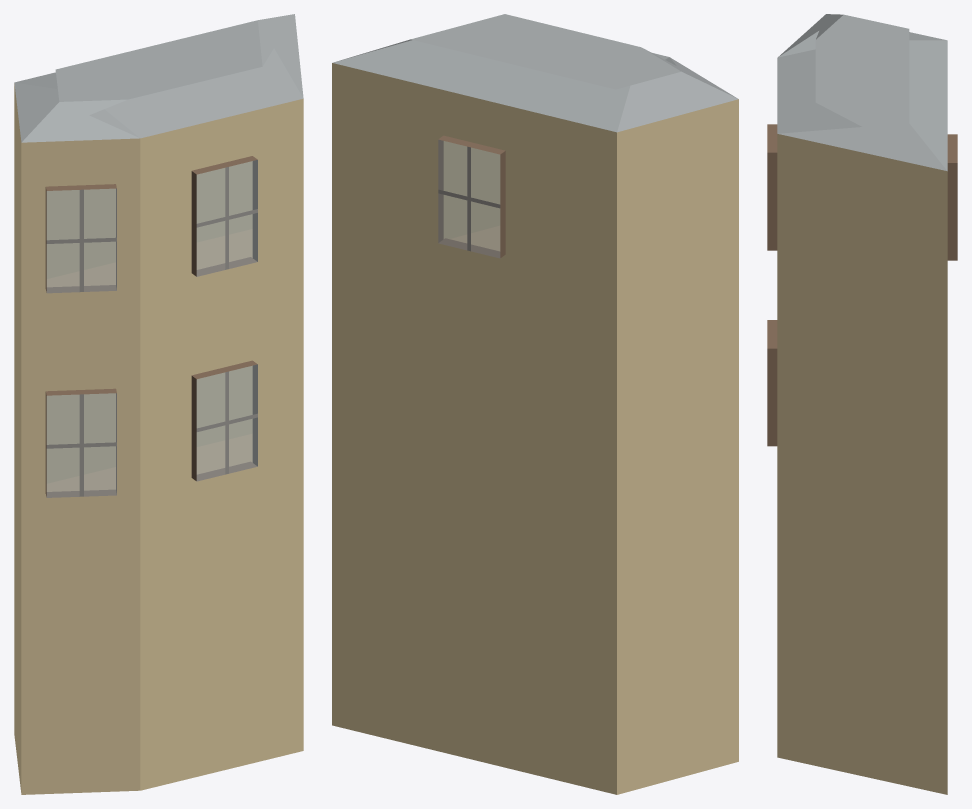
File: N-40-42.rear_three_storey.glb
3 renders of one model, left to right at view 1: azimuth 30°, elevation 25°; view 2: azimuth 150°, elevation 25°; view 3: azimuth 270°, elevation 25°, orthographic. The views are drawn at different scales.
Parts seen in each view (by area): view 1: N-40-42.rear_three_storey; view 2: N-40-42.rear_three_storey; view 3: N-40-42.rear_three_storey.
Boxes of the visible parts, x1=… form: N-40-42.rear_three_storey: x1=14, y1=14, x2=303, y2=794; N-40-42.rear_three_storey: x1=332, y1=14, x2=738, y2=794; N-40-42.rear_three_storey: x1=767, y1=14, x2=957, y2=794.
Size of the model in its own units: 5.51 by 10.55 by 2.82.
